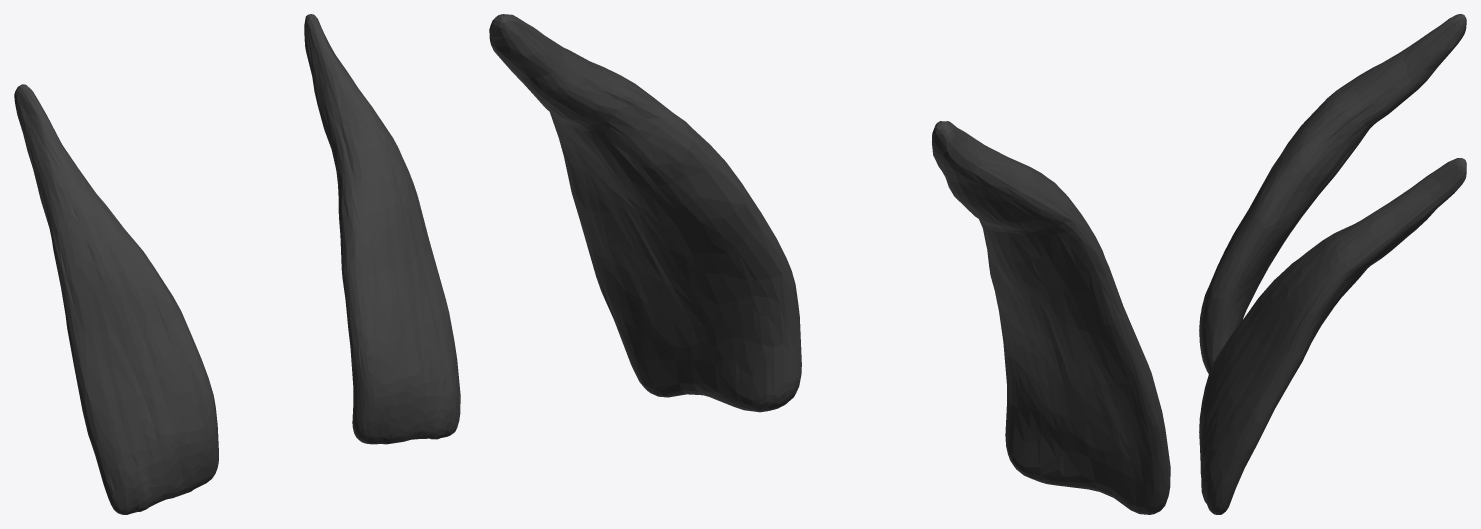
Rendered from m_cleidobrachialis.glb.
3 renders of one model, left to right at view 1: azimuth 30°, elevation 25°; view 2: azimuth 150°, elevation 25°; view 3: azimuth 270°, elevation 25°, orthographic. The views are drawn at different scales.
Visible parts, largest first — view 1: m_cleidobrachialis; view 2: m_cleidobrachialis; view 3: m_cleidobrachialis.
Part boxes in pixels (<box>): m_cleidobrachialis: <box>14,14,460,514</box>; m_cleidobrachialis: <box>489,14,1170,514</box>; m_cleidobrachialis: <box>1199,14,1466,514</box>.
Bounding box in the file's own units: 0.00397 × 0.00352 × 0.00245.
1 material, 1 textured.
